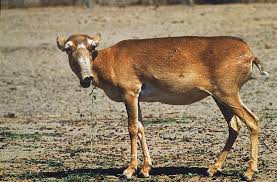saiga: (54, 32, 264, 181)
